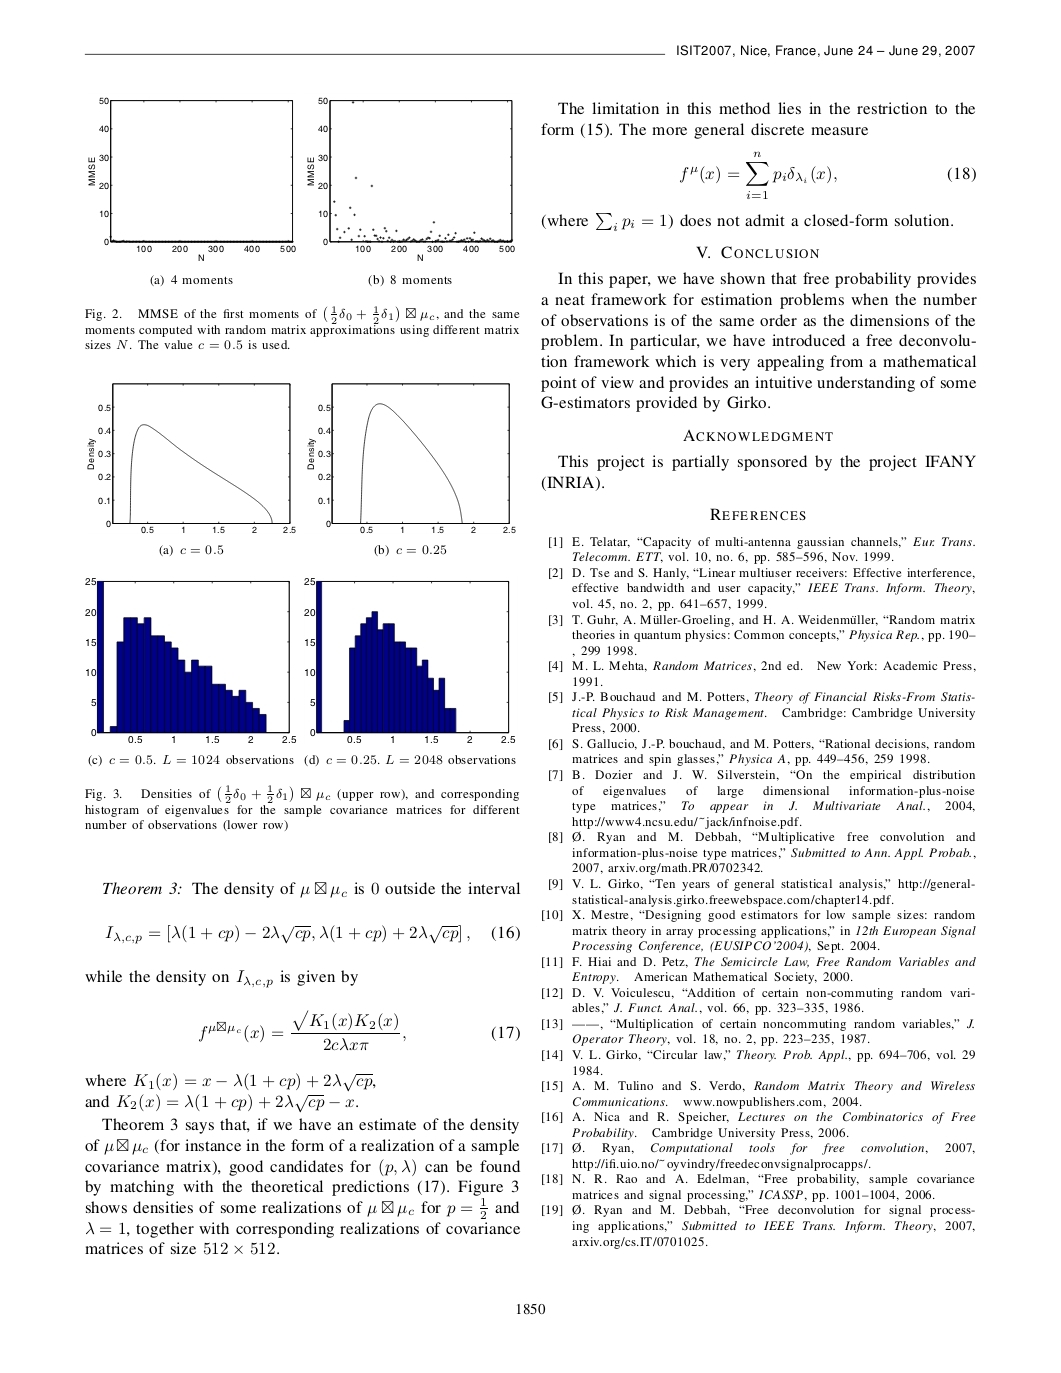figure: (85, 578, 296, 742), (304, 578, 515, 742), (88, 97, 295, 260), (306, 97, 514, 260), (87, 383, 295, 533), (306, 383, 515, 533)
formula: (680, 150, 975, 198), (199, 1009, 519, 1051), (105, 924, 519, 944), (85, 1072, 374, 1092), (85, 1093, 357, 1113)
